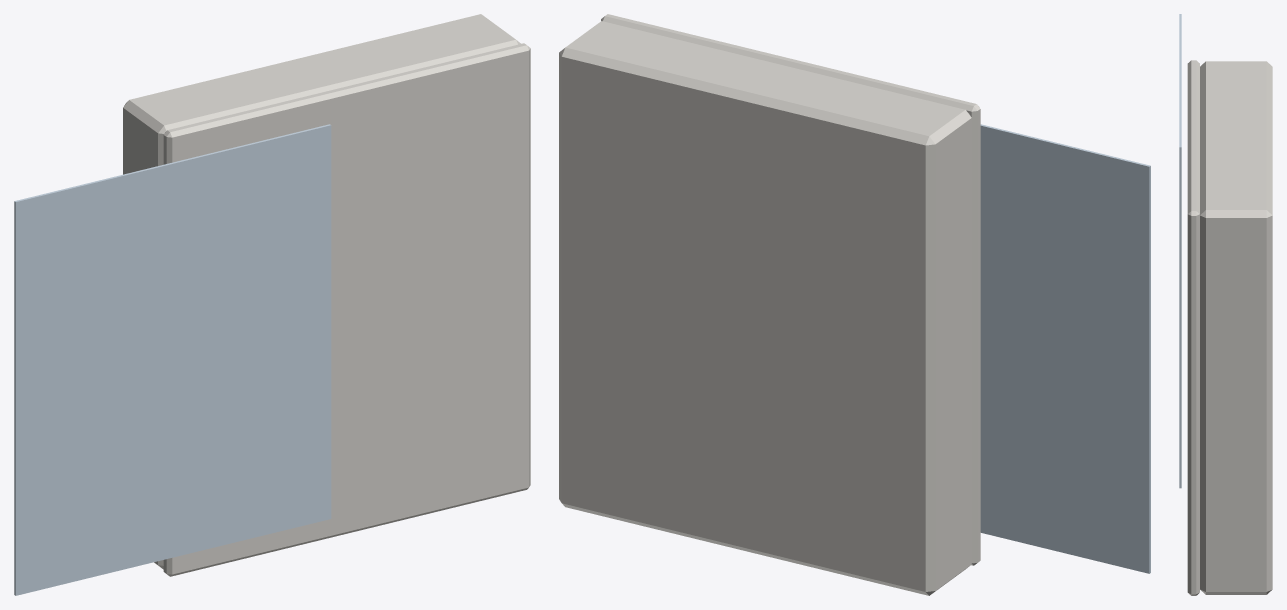
The model's file is mirror_cabinet.fbx.
3 views of the same model, side by side, from view 1: azimuth 30°, elevation 25°; view 2: azimuth 150°, elevation 25°; view 3: azimuth 270°, elevation 25° (orthographic). The views are drawn at different scales.
Visible parts, largest first — view 1: Mirror, Door, Body; view 2: Body, Mirror, Door; view 3: Body, Door, Mirror.
Boxes of the visible parts, x1,y1,x2,y2 form: Mirror: [14, 124, 331, 595]; Door: [163, 43, 530, 576]; Body: [123, 14, 520, 569]; Body: [559, 21, 971, 595]; Mirror: [980, 124, 1150, 573]; Door: [601, 14, 980, 565]; Body: [1200, 61, 1272, 594]; Door: [1187, 60, 1199, 595]; Mirror: [1179, 14, 1181, 488].
Size of the model in its own units: 0.86 by 0.7 by 0.154.
